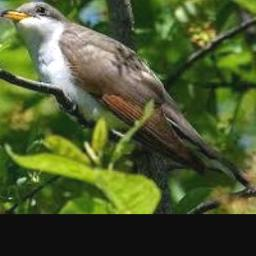Cuckoo: (1, 0, 220, 174)
